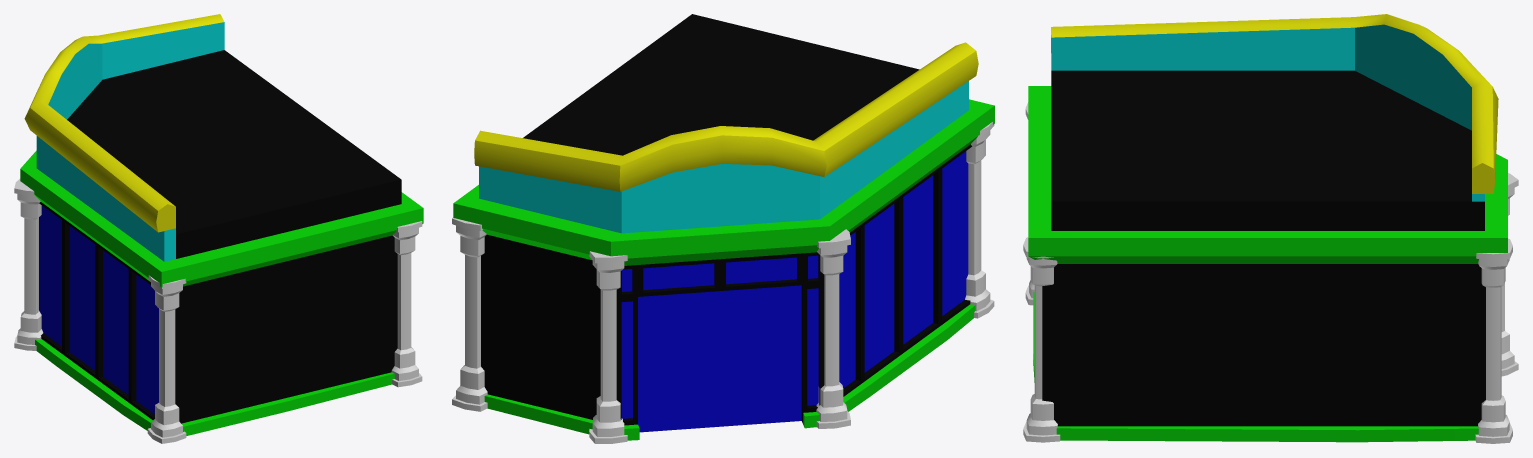
File: corner shop.fbx
3 renders of one model, left to right at view 1: azimuth 30°, elevation 25°; view 2: azimuth 150°, elevation 25°; view 3: azimuth 270°, elevation 25°, orthographic. The views are drawn at different scales.
Parts seen in each view (by area): view 1: pCube235, pCube236, pCube277, pCube237; view 2: pCube235, pCube239, pCube237, pCube240, pCube236; view 3: pCube235, pCube240, pCube277, pCube239.
Boxes of the visible parts, box(x1,y1,x2,y2) form: pCube235: box(20, 14, 423, 435); pCube236: box(147, 275, 186, 443); pCube277: box(391, 221, 422, 387); pCube237: box(14, 178, 43, 350); pCube235: box(453, 14, 994, 440); pCube239: box(589, 251, 627, 443); pCube237: box(816, 229, 850, 428); pCube240: box(452, 217, 487, 411); pCube236: box(965, 122, 994, 318); pCube235: box(1028, 14, 1507, 442); pCube240: box(1475, 238, 1512, 443); pCube277: box(1023, 237, 1060, 442); pCube239: box(1501, 173, 1518, 376).
Size of the model in its own units: 13.42 by 11.98 by 17.53.
